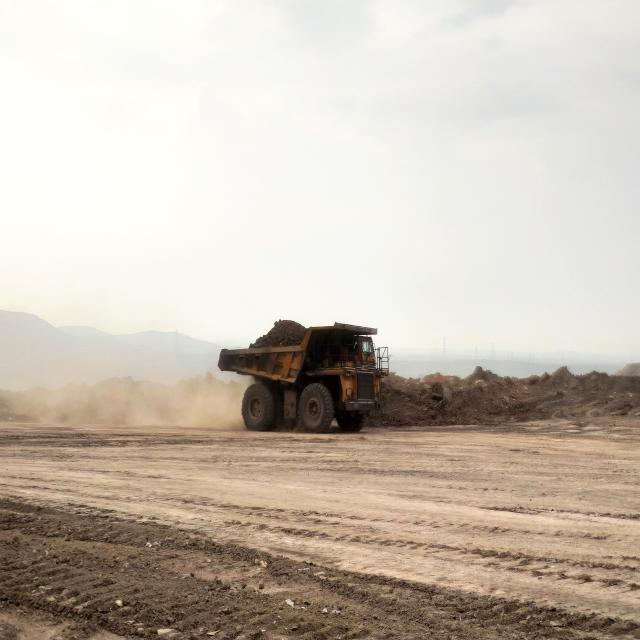dump_truck: (219, 320, 389, 432)
